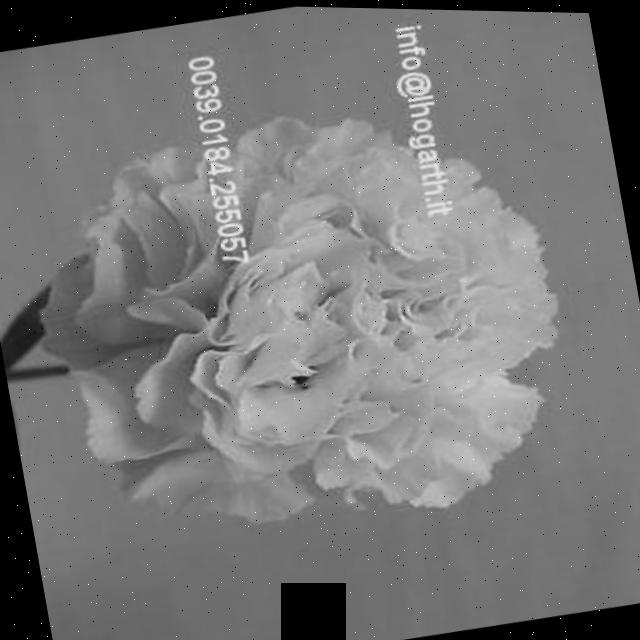carnation: (31, 76, 585, 562)
